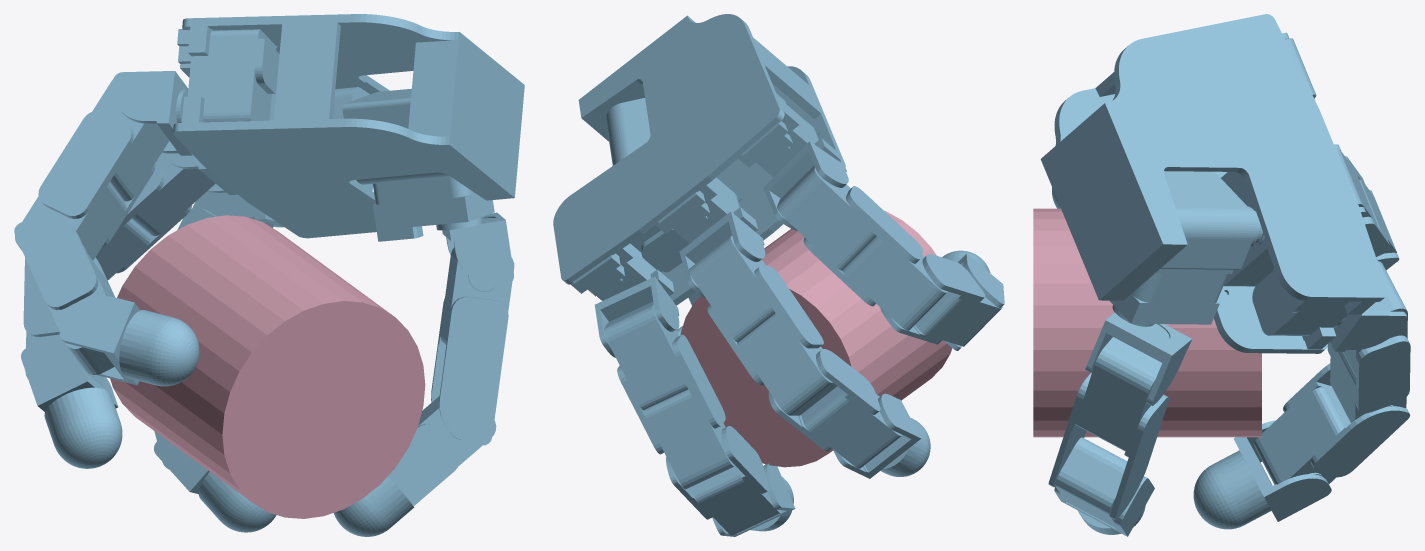
3 renders of one model, left to right at view 1: azimuth 30°, elevation 25°; view 2: azimuth 150°, elevation 25°; view 3: azimuth 270°, elevation 25°, orthographic. The views are drawn at different scales.
Parts seen in each view (by area): view 1: world, cylinder_medium.stl; view 2: world, cylinder_medium.stl; view 3: world, cylinder_medium.stl.
Part boxes in pixels (box(x1,y1,x2,y2)): world: box(14, 14, 524, 536); cylinder_medium.stl: box(110, 215, 425, 518); world: box(553, 14, 1004, 536); cylinder_medium.stl: box(680, 210, 952, 467); world: box(1040, 14, 1410, 536); cylinder_medium.stl: box(1033, 208, 1261, 437).
Size of the model in its own units: 0.1878 by 0.2005 by 0.1319.
